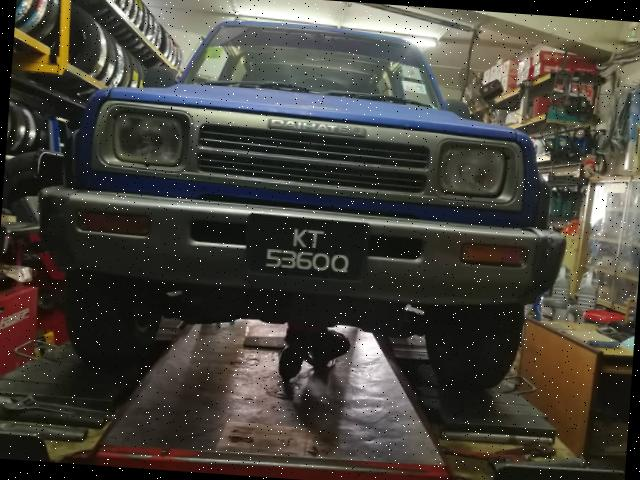License_Plate: (247, 212, 369, 281)
car: (43, 4, 581, 408)
